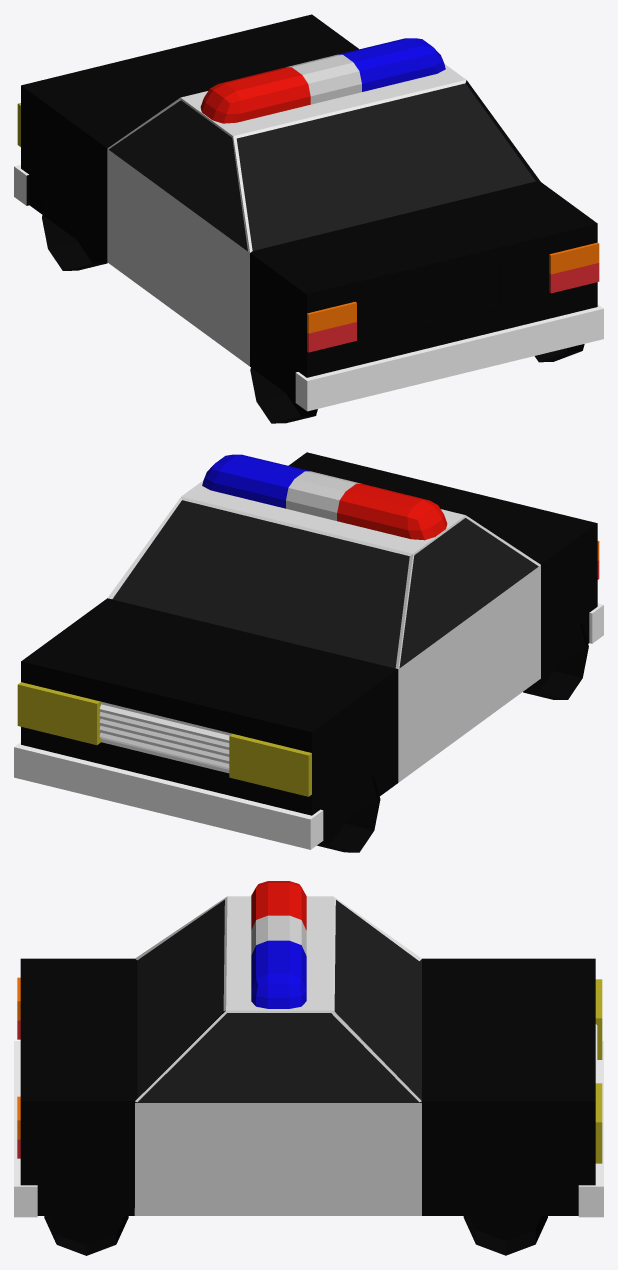
The model's file is cop-car.glb.
3 renders of one model, top to bottom at view 1: azimuth 30°, elevation 25°; view 2: azimuth 150°, elevation 25°; view 3: azimuth 270°, elevation 25°, orthographic.
Visible parts, largest first — view 1: car, light-bar; view 2: car, light-bar; view 3: car, light-bar.
Part boxes in pixels (bbox=[...]): car: bbox=[14, 14, 603, 423]; light-bar: bbox=[200, 38, 445, 123]; car: bbox=[14, 452, 603, 852]; light-bar: bbox=[202, 454, 447, 540]; car: bbox=[14, 896, 603, 1255]; light-bar: bbox=[251, 881, 306, 1008].
Bounding box in the file's own units: 2.04 × 1.69 × 3.49.
